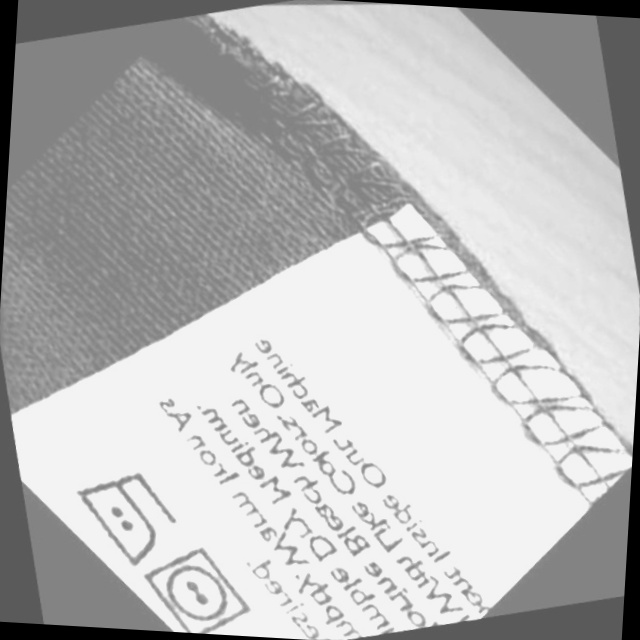iron_medium: (48, 446, 198, 588)
tumble_dry_medium: (121, 523, 270, 637)
